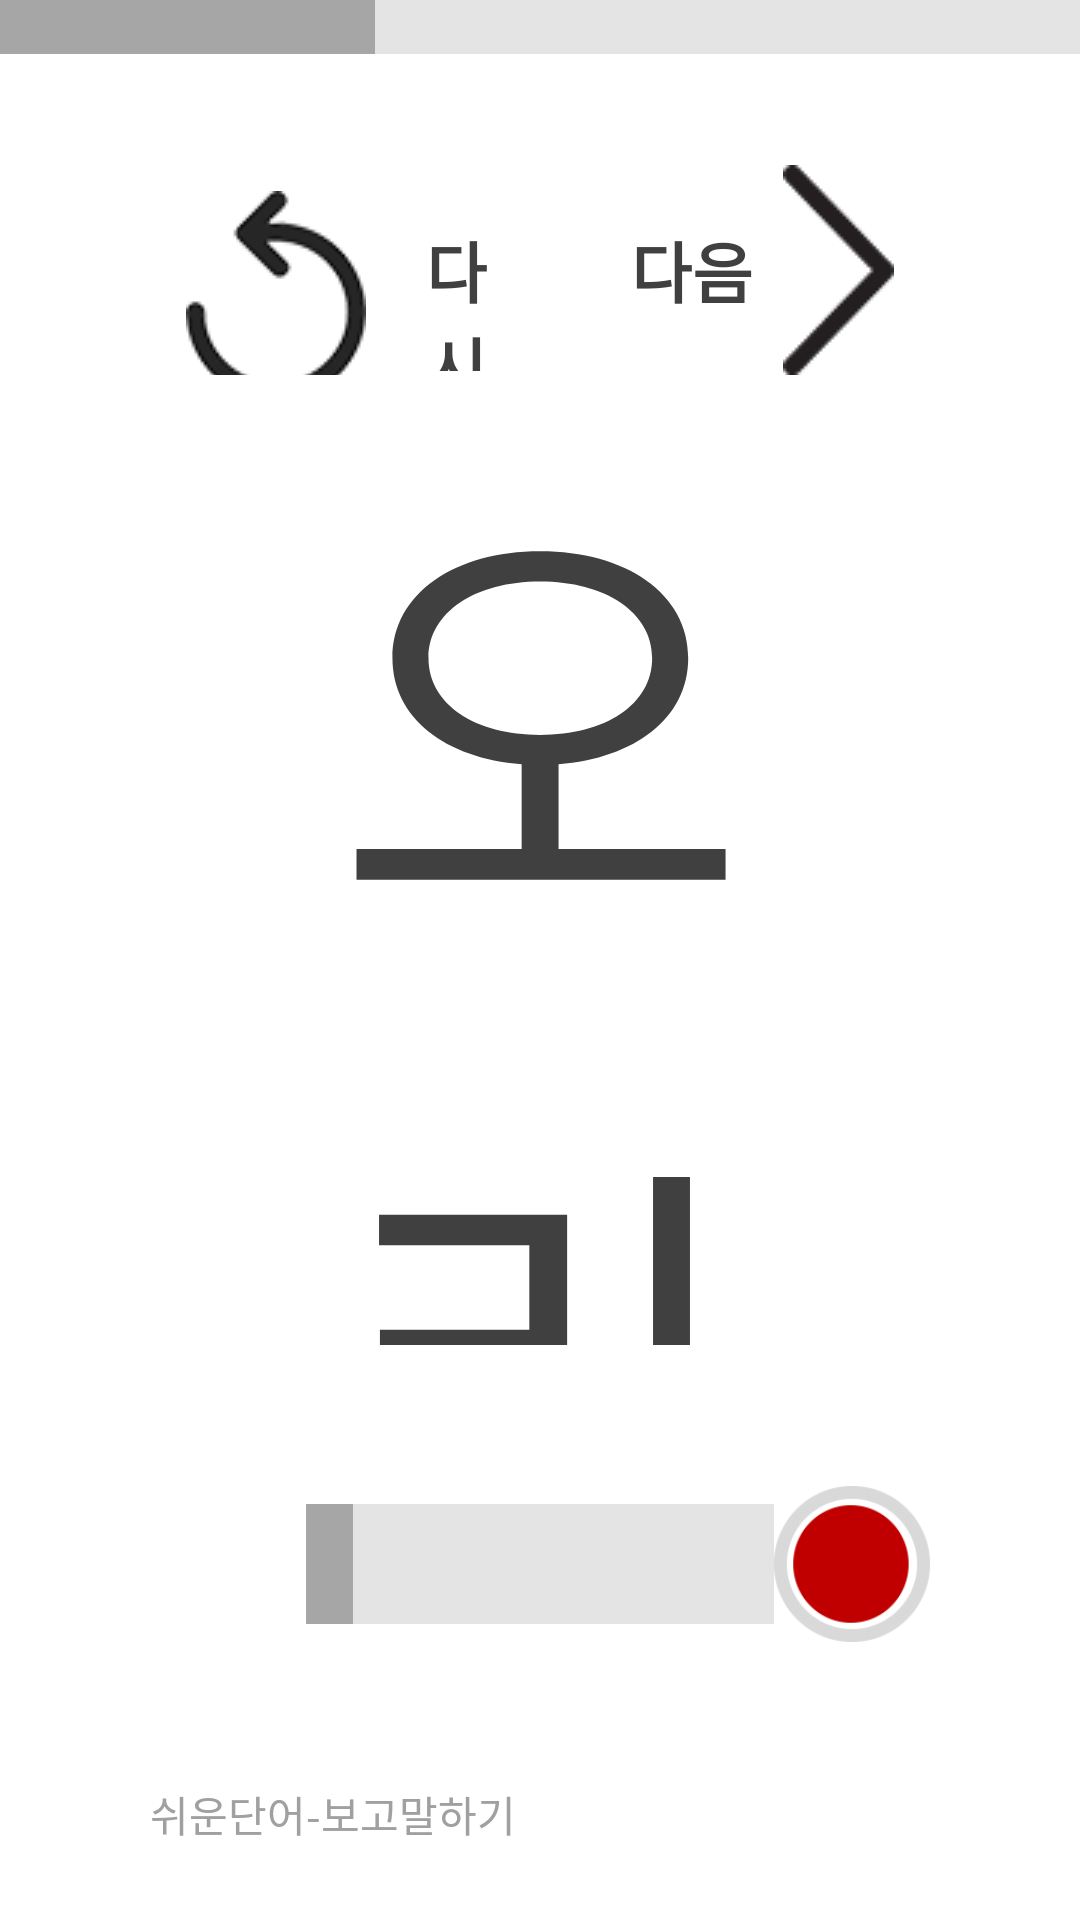

Named icons in this screenshot (1080px×1920px) and their bounding boxes, box(x1, y1, x2, y2):
record: box(793, 1505, 909, 1623)
